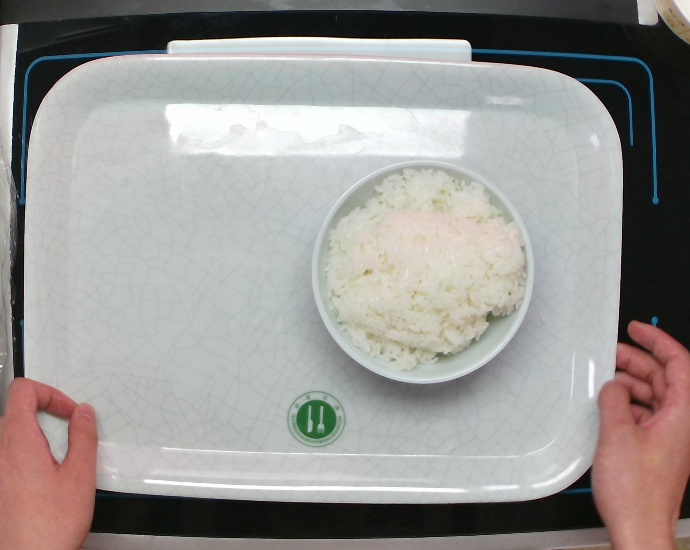JYsf-Fan_Wan: (310, 157, 536, 386)
